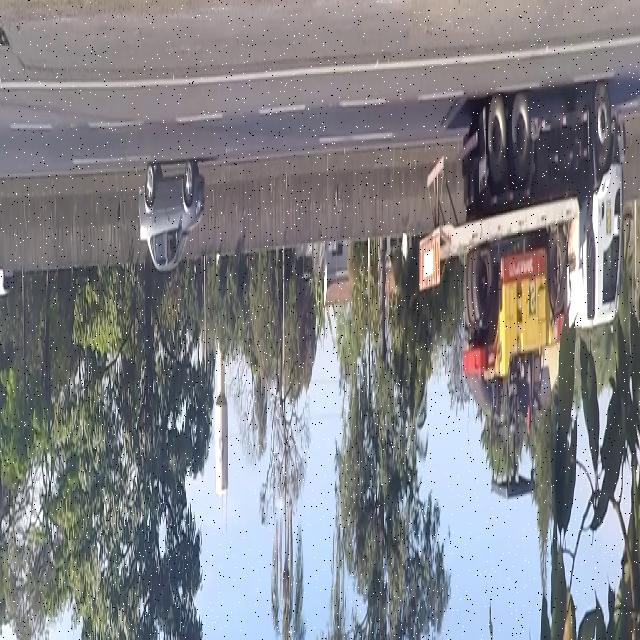-axle: (591, 75, 614, 176), (511, 94, 532, 188), (486, 99, 507, 185)
